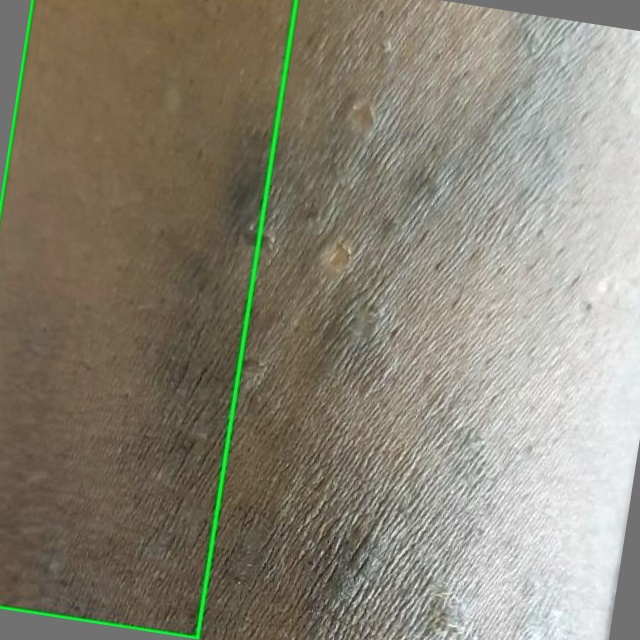Contact Dermatitis: (0, 0, 296, 638)
